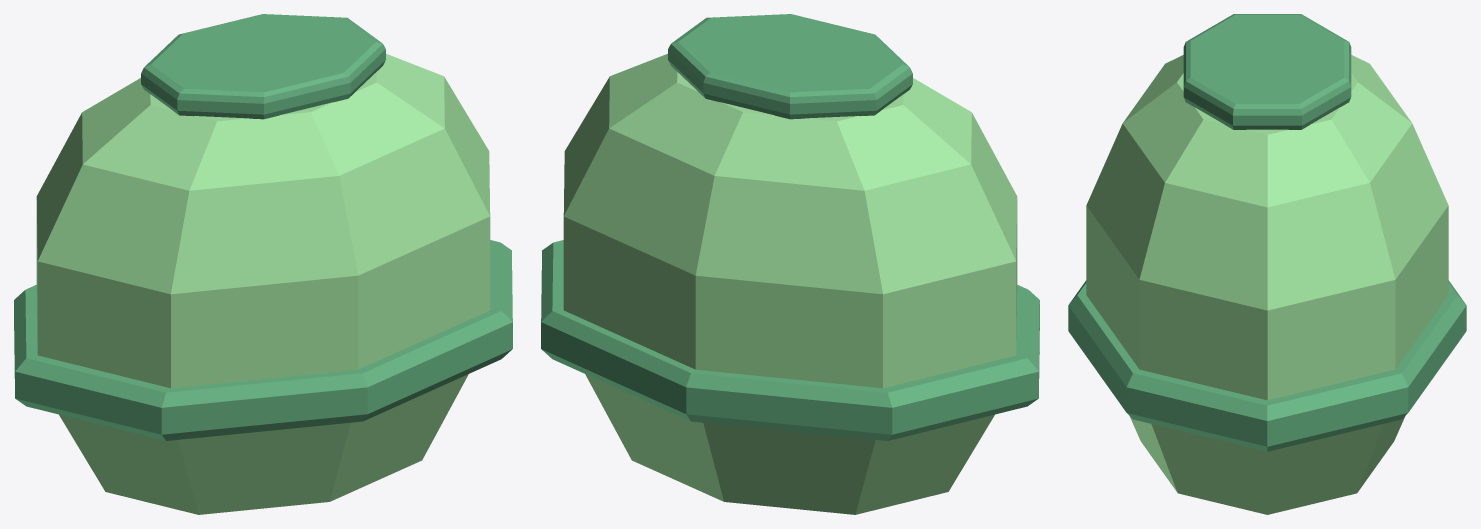
Rendered from game-ui-icon-library-gem-emerald-2a7103ec__18966.glb.
The picture shows the model from 3 angles, left to right: view 1: azimuth 30°, elevation 25°; view 2: azimuth 150°, elevation 25°; view 3: azimuth 270°, elevation 25°; orthographic projection. The views are drawn at different scales.
Visible parts, largest first — view 1: gem-emerald; view 2: gem-emerald; view 3: gem-emerald.
Part boxes in pixels (x1,y1,x2,y2): gem-emerald: (14, 14, 512, 514); gem-emerald: (541, 14, 1039, 514); gem-emerald: (1068, 14, 1466, 514).
Size of the model in its own units: 0.98 by 0.8555 by 0.7127.
